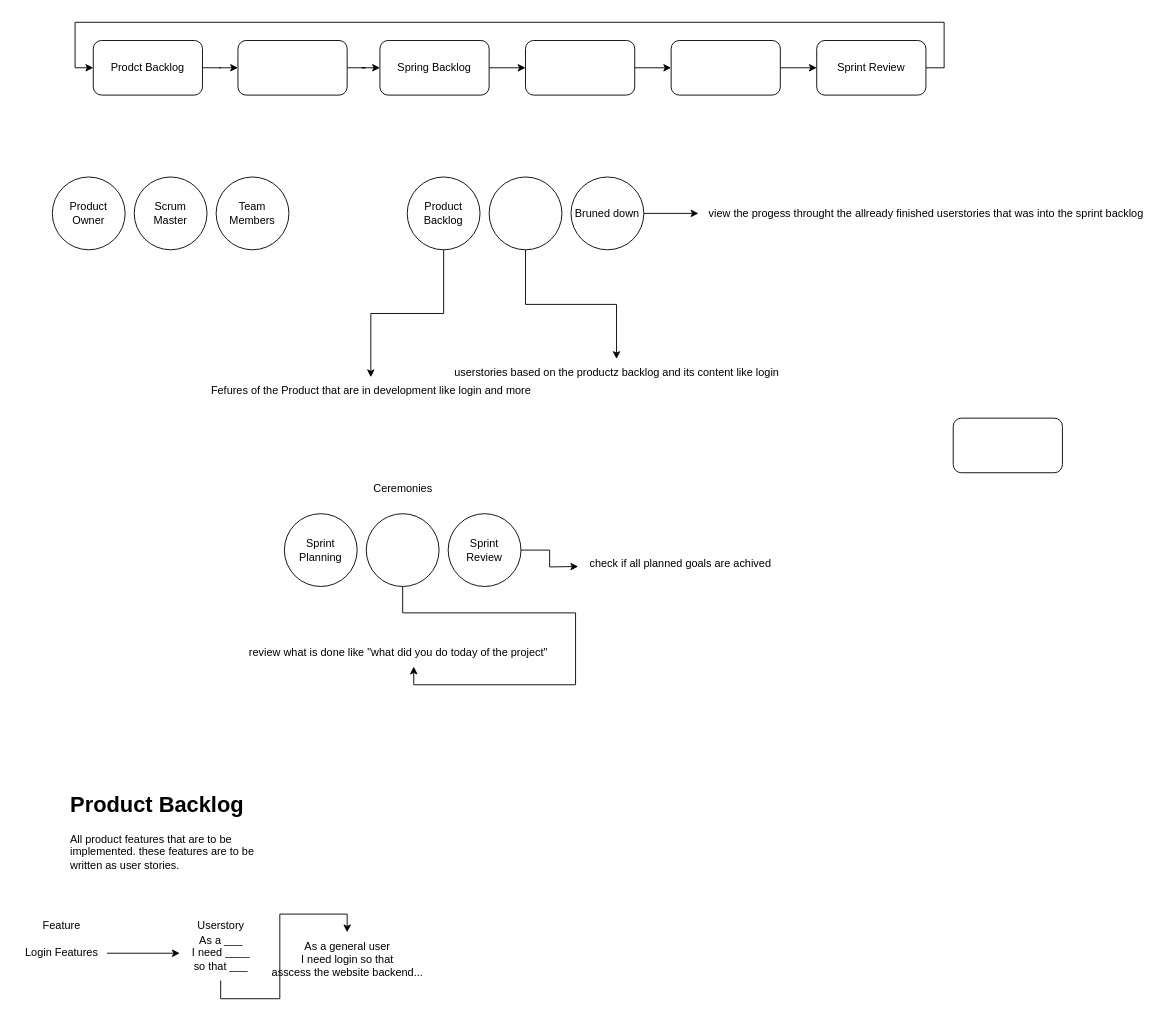
Image size: 1168x1022. Some labels were removed from this diagram. Here are the shapes that lost their labels. From the top down, the centre of each, then its label:
[292,67]: Spring Planning
[580,67]: Sprint
[725,67]: Potential Prodct
[525,213]: Sprint Backlog
[402,549]: Daily Scrum
